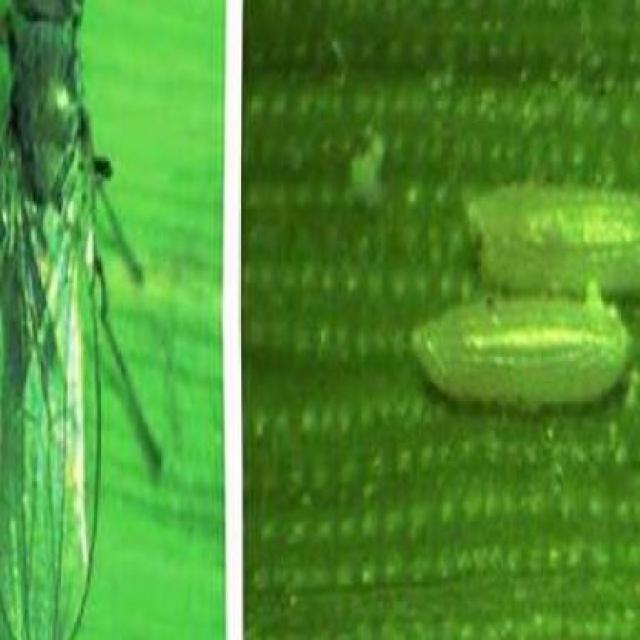whorl-maggot: (406, 289, 640, 420), (452, 168, 640, 295)
